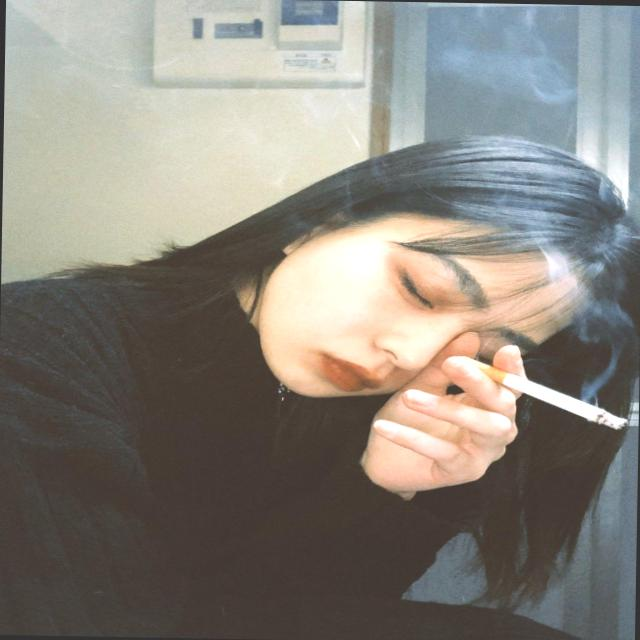smoke: (430, 374, 629, 439)
